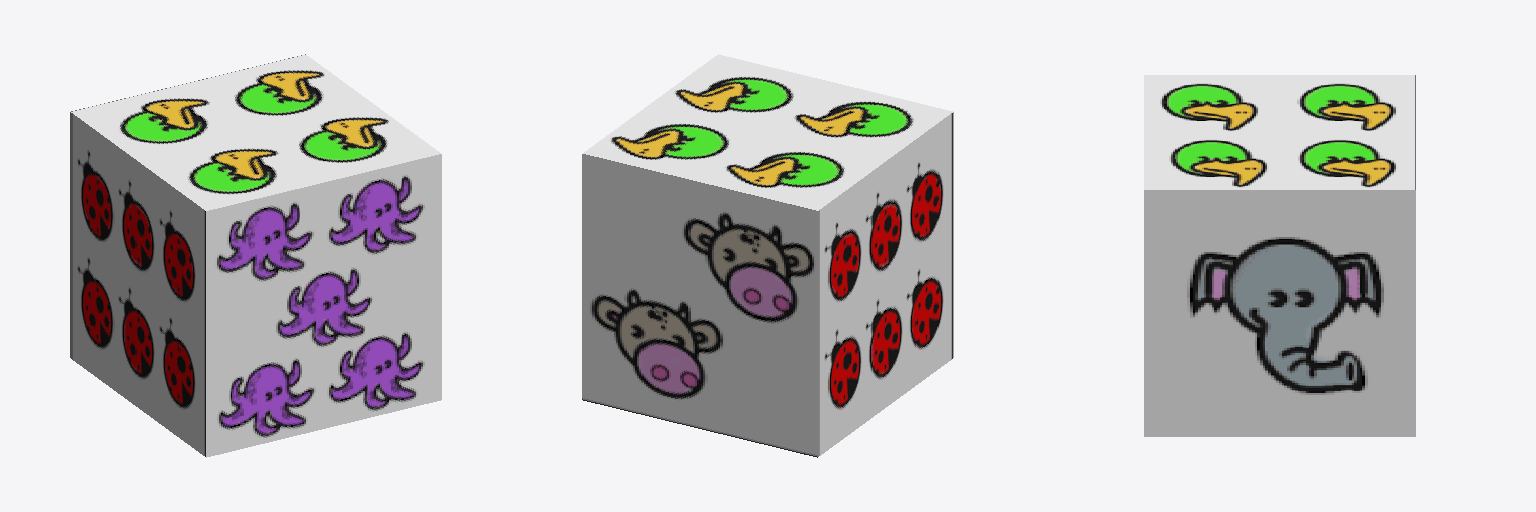
3 views of the same model, side by side, from view 1: azimuth 30°, elevation 25°; view 2: azimuth 150°, elevation 25°; view 3: azimuth 270°, elevation 25° (orthographic).
Visible parts, largest first — view 1: Box001; view 2: Box001; view 3: Box001.
Part boxes in pixels (bbox=[...]): Box001: bbox=[70, 54, 441, 457]; Box001: bbox=[582, 54, 953, 457]; Box001: bbox=[1144, 75, 1415, 436].
Bounding box in the file's own units: 30 × 30 × 30.
Materials: 1 (1 with a texture image).